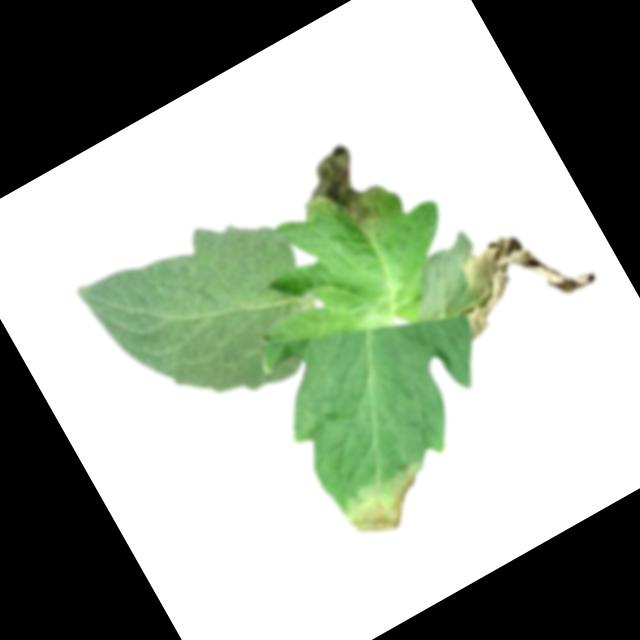Late_blight: (429, 203, 598, 349), (281, 135, 400, 259), (328, 453, 441, 550)
healthy: (72, 185, 349, 450)
